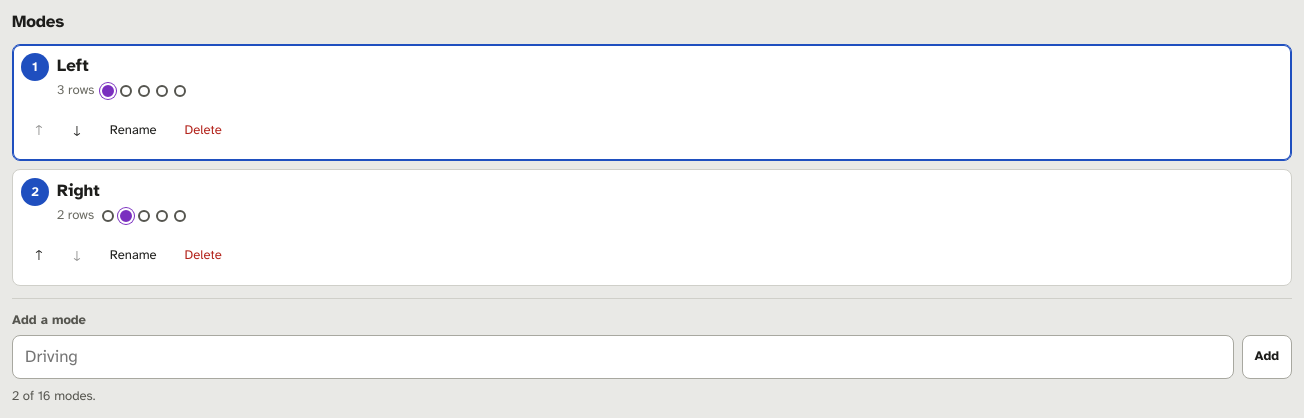
ModeRail › cancels a rename with Escape, leaving the name alone
Click the 1st button "Rename": [133, 130] box x1=97 y1=108 x2=170 y2=152
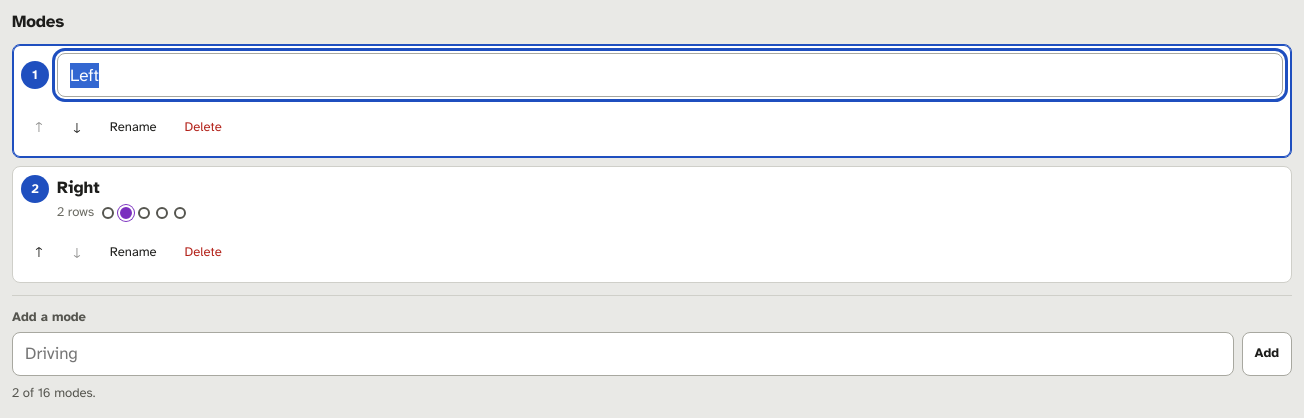
Replace the text in the field named "Rename mode 1" with "Nope": [670, 75] box x1=57 y1=53 x2=1283 y2=97
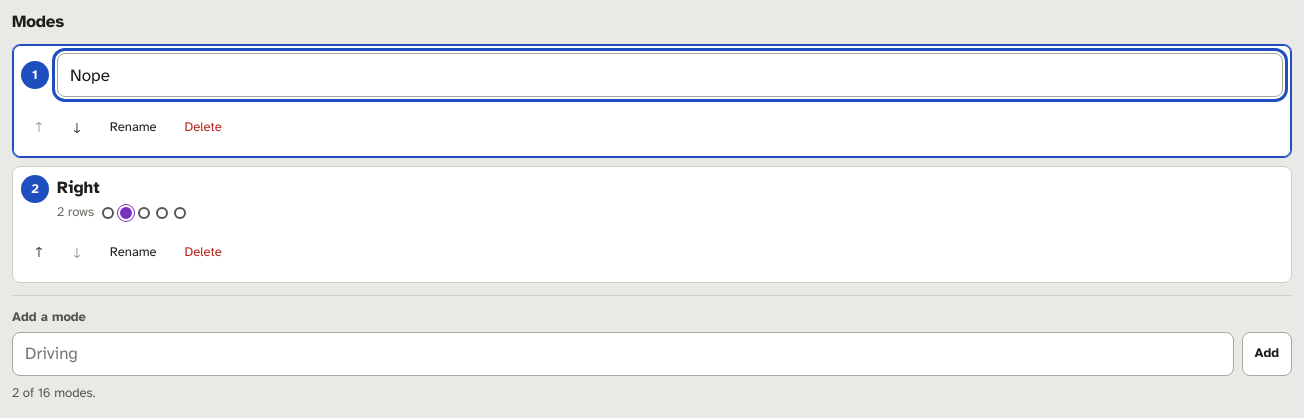
Press Escape in the field named "Rename mode 1", box x1=57 y1=53 x2=1283 y2=97
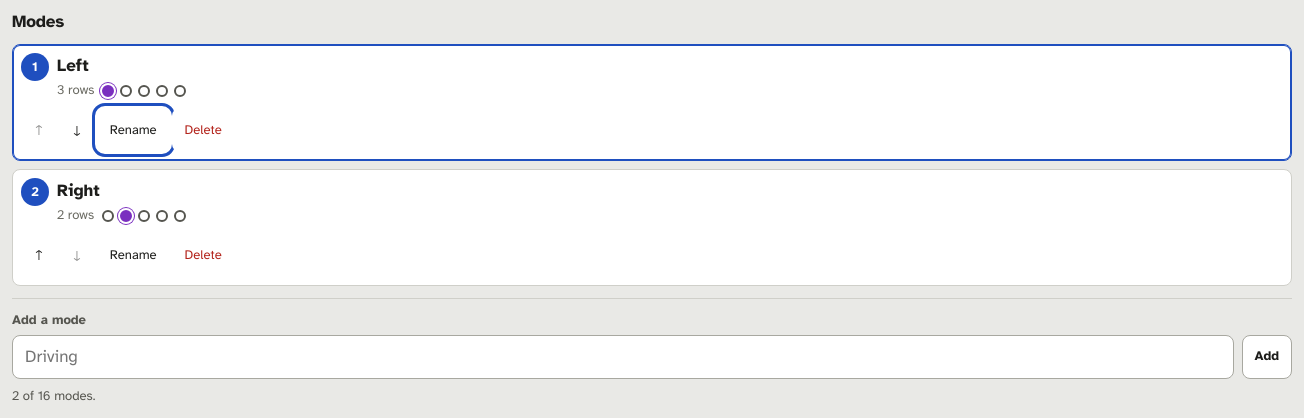
Expected: the text "Left" is shown, x1=57 y1=55 x2=89 y2=76
